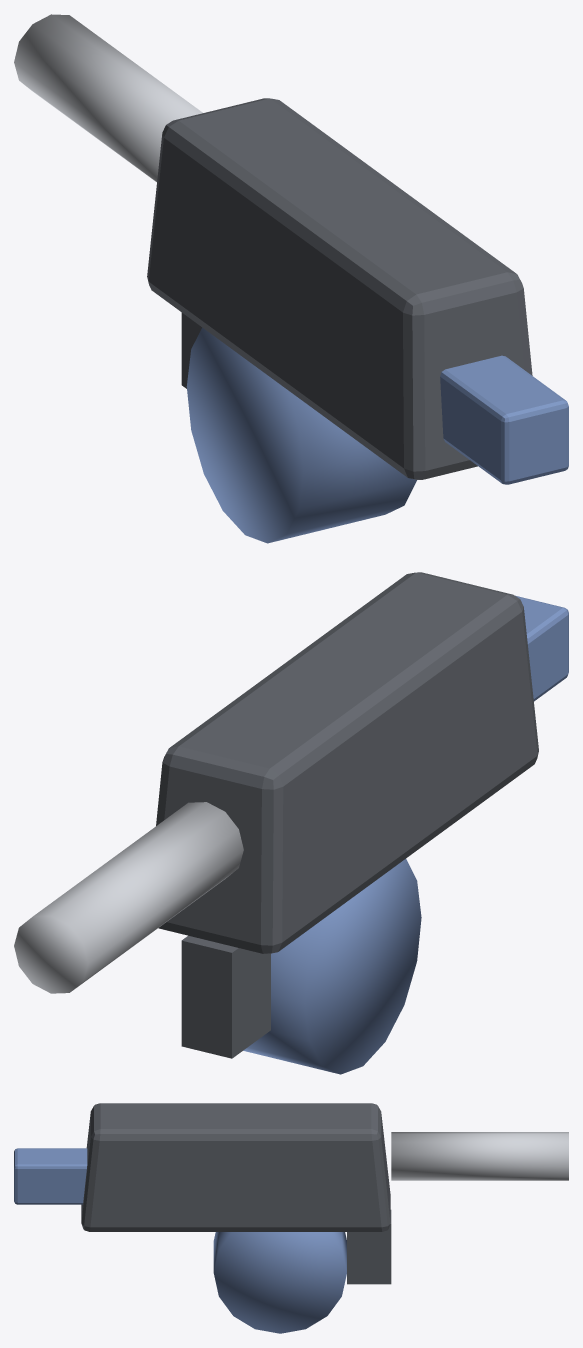
The model's file is weapon_smg_live.glb.
3 views of the same model, one above another, from view 1: azimuth 30°, elevation 25°; view 2: azimuth 150°, elevation 25°; view 3: azimuth 270°, elevation 25° (orthographic). The views are drawn at different scales.
Visible parts, largest first — view 1: body, drum, barrel, stock, foregrip; view 2: body, drum, barrel, foregrip, stock; view 3: body, drum, barrel, stock, foregrip.
Boxes of the visible parts, x1=… form: body: x1=147, y1=98, x2=532, y2=479; drum: x1=186, y1=327, x2=416, y2=543; barrel: x1=14, y1=14, x2=202, y2=181; stock: x1=440, y1=355, x2=568, y2=484; foregrip: x1=181, y1=312, x2=201, y2=388; body: x1=156, y1=572, x2=538, y2=954; drum: x1=243, y1=859, x2=421, y2=1074; barrel: x1=14, y1=802, x2=243, y2=993; foregrip: x1=181, y1=935, x2=270, y2=1058; stock: x1=515, y1=595, x2=568, y2=701; body: x1=81, y1=1103, x2=390, y2=1231; drum: x1=213, y1=1232, x2=346, y2=1333; barrel: x1=391, y1=1132, x2=568, y2=1180; stock: x1=14, y1=1148, x2=87, y2=1204; foregrip: x1=347, y1=1210, x2=391, y2=1284.
Size of the model in its own units: 0.6732 by 1.7 by 4.25.
